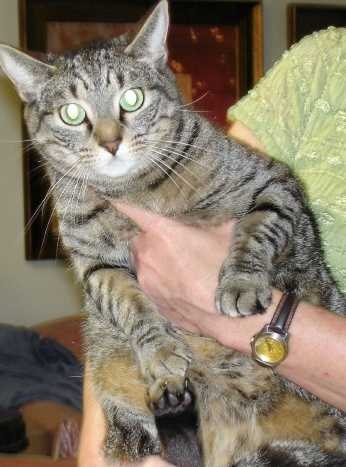Cat: (0, 0, 332, 374)
